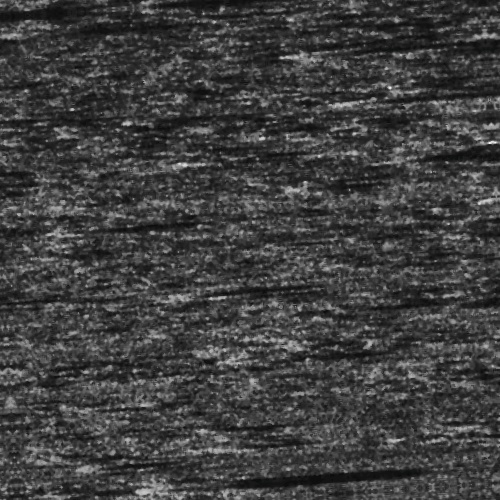object: (107, 472, 252, 489), (247, 50, 382, 61), (18, 209, 91, 224), (421, 208, 500, 219), (0, 11, 74, 22), (148, 283, 221, 294), (311, 102, 404, 109), (380, 167, 433, 172)
shadow: (180, 472, 372, 489), (54, 209, 191, 224), (315, 50, 487, 61), (185, 283, 329, 294), (32, 11, 152, 22), (358, 102, 500, 109), (407, 167, 500, 172), (271, 359, 361, 362)
